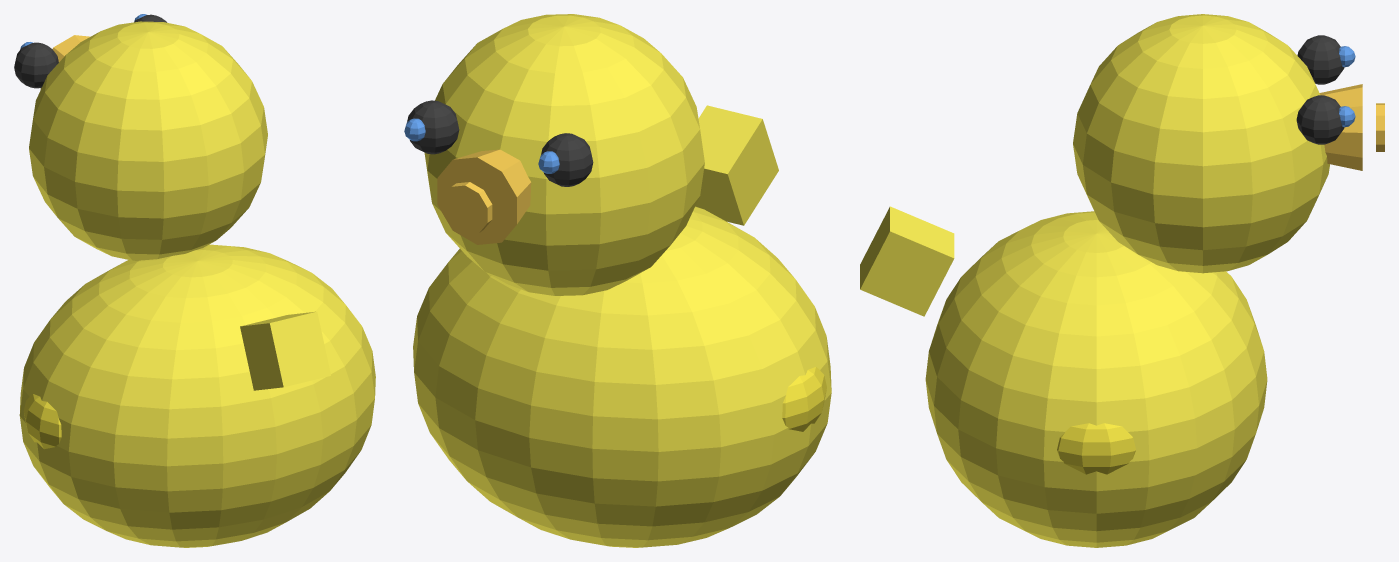
The model's file is rubber_duck.fbx.
3 renders of one model, left to right at view 1: azimuth 30°, elevation 25°; view 2: azimuth 150°, elevation 25°; view 3: azimuth 270°, elevation 25°, orthographic. The views are drawn at different scales.
Parts seen in each view (by area): view 1: RD_Body, RD_Head, RD_Tail, RD_Wing, RD_Eye; view 2: RD_Body, RD_Head, RD_Tail, RD_Beak, RD_Wing, RD_BeakTip, RD_Eye.001, RD_Eye; view 3: RD_Body, RD_Head, RD_Tail, RD_Wing.001, RD_Beak, RD_Eye.001, RD_Eye.
Boxes of the visible parts, left/top/right/bottom form: RD_Body: left=19, top=244, right=375, bottom=547; RD_Head: left=29, top=21, right=267, bottom=260; RD_Tail: left=240, top=311, right=330, bottom=390; RD_Wing: left=23, top=394, right=61, bottom=449; RD_Eye: left=14, top=42, right=58, bottom=88; RD_Body: left=413, top=206, right=831, bottom=547; RD_Head: left=424, top=14, right=704, bottom=295; RD_Tail: left=695, top=105, right=778, bottom=225; RD_Beak: left=437, top=149, right=531, bottom=244; RD_Wing: left=782, top=367, right=826, bottom=431; RD_BeakTip: left=443, top=182, right=492, bottom=234; RD_Eye.001: left=407, top=100, right=459, bottom=154; RD_Eye: left=541, top=133, right=593, bottom=186; RD_Body: left=925, top=211, right=1267, bottom=547; RD_Head: left=1073, top=14, right=1329, bottom=273; RD_Tail: left=860, top=206, right=954, bottom=316; RD_Wing.001: left=1057, top=423, right=1135, bottom=474; RD_Beak: left=1319, top=84, right=1362, bottom=170; RD_Eye.001: left=1296, top=95, right=1344, bottom=144; RD_Eye: left=1297, top=35, right=1344, bottom=84.
Bounding box in the file's own units: 0.6951 × 0.932 × 0.8872.
